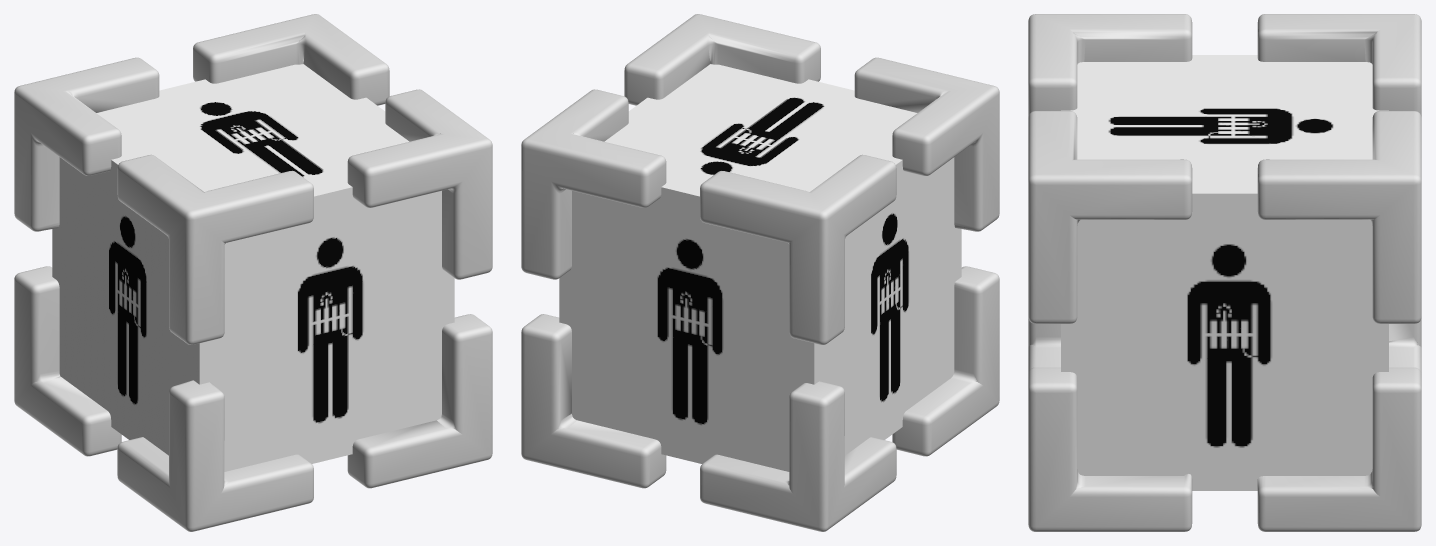
File: SuisideBombBox.FBX
3 views of the same model, side by side, from view 1: azimuth 30°, elevation 25°; view 2: azimuth 150°, elevation 25°; view 3: azimuth 270°, elevation 25° (orthographic). The views are drawn at different scales.
Visible parts, largest first — view 1: MainBox, Corner005, Corner008, Corner001, Corner011, Corner007, Corner006, Corner010; view 2: MainBox, Corner011, Corner006, Corner010, Corner005, Corner002, Corner008, Corner001; view 3: MainBox, Corner010, Corner001, Corner007, Corner002, Corner011, Corner005, Corner006, Corner008.
Boxes of the visible parts, <box> form: MainBox: <box>52,64,454,471</box>; Corner005: <box>117,154,313,344</box>; Corner008: <box>117,380,313,531</box>; Corner001: <box>347,89,492,279</box>; Corner011: <box>14,57,159,231</box>; Corner007: <box>347,314,492,488</box>; Corner006: <box>14,266,121,456</box>; Corner010: <box>193,14,389,105</box>; MainBox: <box>559,64,961,471</box>; Corner011: <box>700,154,896,344</box>; Corner006: <box>700,381,896,531</box>; Corner010: <box>521,89,666,279</box>; Corner005: <box>854,57,999,231</box>; Corner002: <box>521,314,666,488</box>; Corner008: <box>892,266,999,456</box>; Corner001: <box>624,14,820,105</box>; MainBox: <box>1061,55,1388,490</box>; Corner010: <box>1257,111,1421,323</box>; Corner001: <box>1028,111,1192,323</box>; Corner007: <box>1028,367,1192,531</box>; Corner002: <box>1257,367,1421,531</box>; Corner011: <box>1257,14,1421,117</box>; Corner005: <box>1028,14,1192,117</box>; Corner006: <box>1389,317,1421,373</box>; Corner008: <box>1028,317,1060,373</box>.
Size of the model in its own units: 120 by 120 by 120.
1 material, 1 textured.
